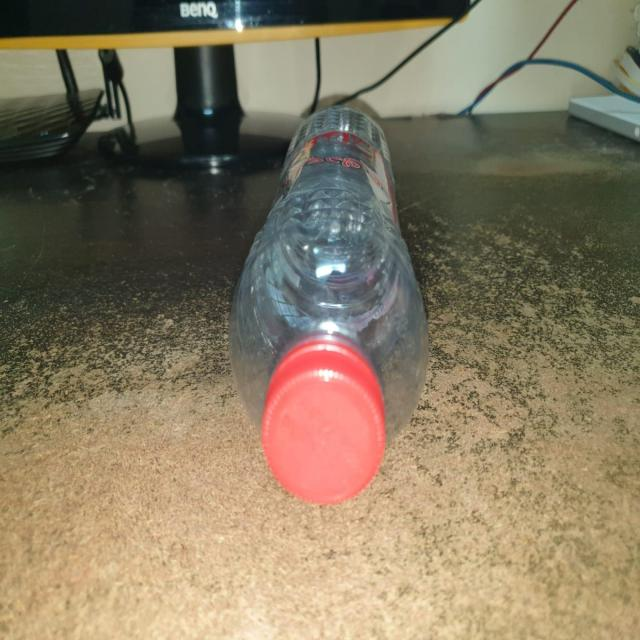bottle: (227, 105, 442, 509)
